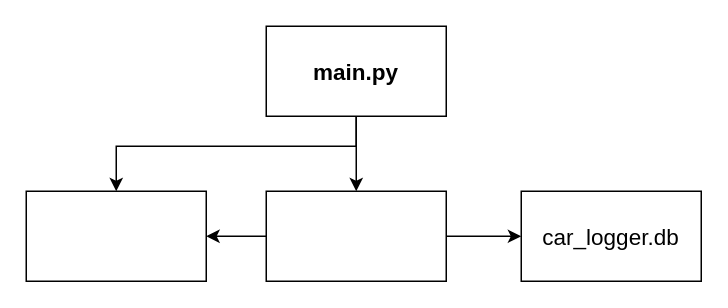
Image size: 728x308. Some labels were removed from this diagram. Each missing label, with the centre of its shape:
"config.py" belongs at (x=115, y=235).
"database.py" belongs at (x=355, y=235).
